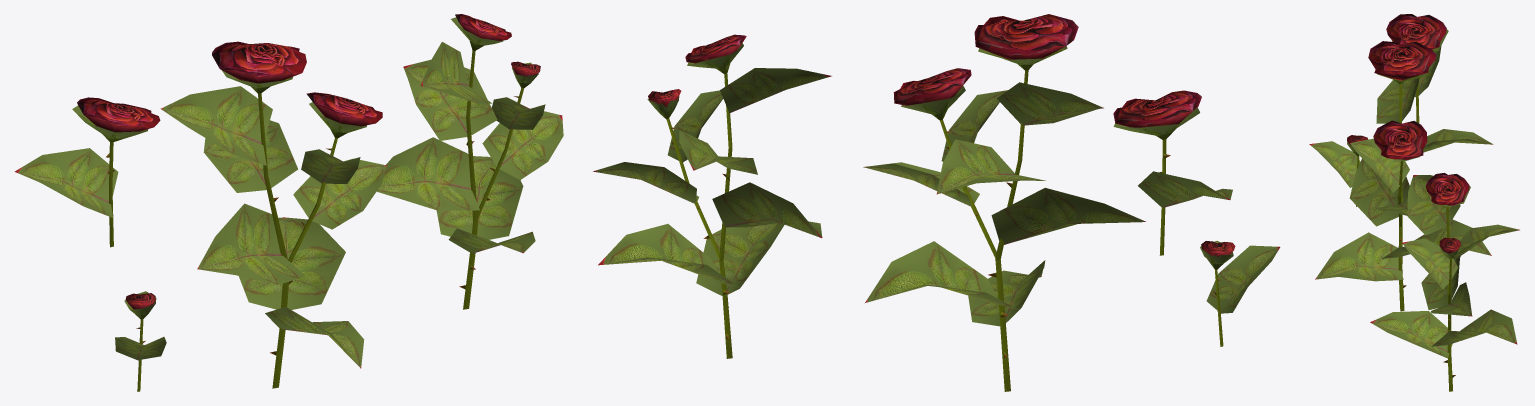
Rendered from rose_m.FBX.
3 views of the same model, side by side, from view 1: azimuth 30°, elevation 25°; view 2: azimuth 150°, elevation 25°; view 3: azimuth 270°, elevation 25° (orthographic). The views are drawn at different scales.
Visible parts, largest first — view 1: rose03, rose04, rose02, rose01; view 2: rose03, rose04, rose02, rose01; view 3: rose03, rose04, rose02, rose01.
Boxes of the visible parts, bbox=[...] form: rose03: bbox=[160, 41, 386, 388]; rose04: bbox=[377, 14, 563, 309]; rose02: bbox=[14, 97, 160, 247]; rose01: bbox=[115, 291, 166, 391]; rose03: bbox=[863, 14, 1145, 391]; rose04: bbox=[593, 34, 831, 358]; rose02: bbox=[1113, 90, 1232, 255]; rose01: bbox=[1200, 241, 1280, 346]; rose03: bbox=[1315, 41, 1493, 311]; rose04: bbox=[1370, 173, 1519, 391]; rose02: bbox=[1386, 14, 1448, 123]; rose01: bbox=[1309, 135, 1368, 206].
Size of the model in its own units: 124 by 71.89 by 54.2.
